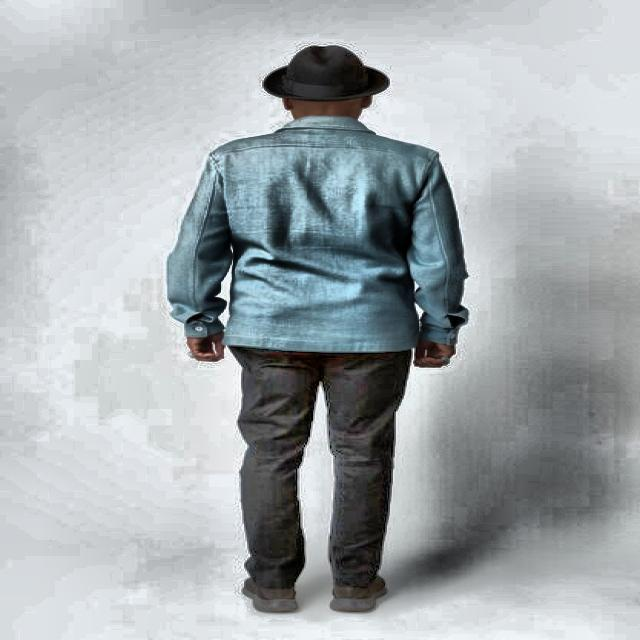Human: (163, 37, 494, 638)
